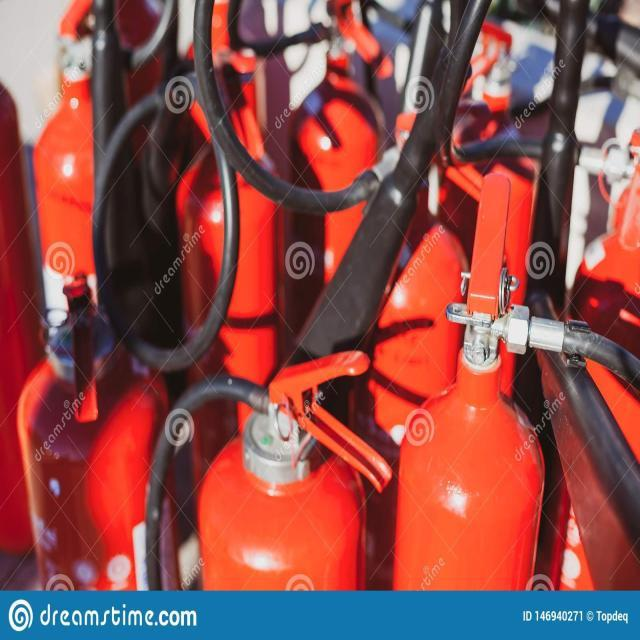fire_extinguisher: (86, 39, 288, 591), (386, 165, 640, 595), (258, 0, 392, 528), (142, 340, 390, 592), (15, 262, 169, 594)
